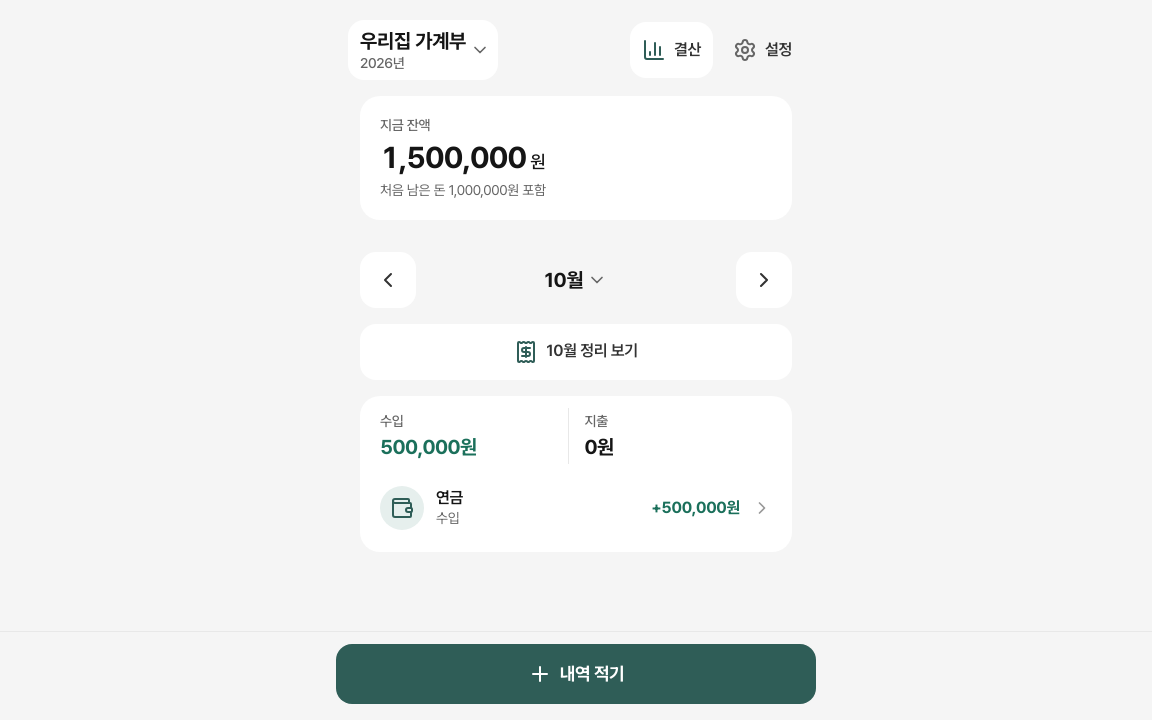
Test: SPEC-005 장부 바꾸기·새 장부·지우기 (화면) › AC-3 이름 버튼 → 창에서 다른 장부를 누르면 그 장부의 이번 달 장부 화면이 열리고 마지막에 본 장부로 저장된다
The width and height of the screenshot is (1152, 720).
Click the button named "이전 달": (388, 280) [360, 252, 416, 308]
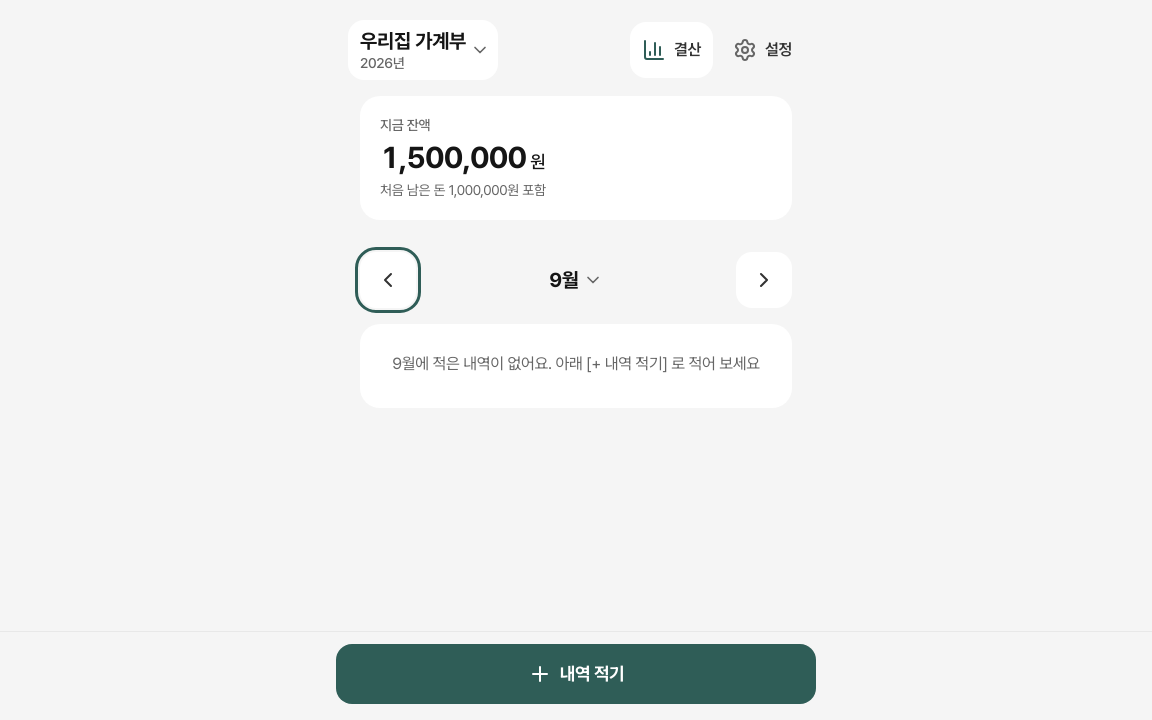
Click the button with test id "book-button": (423, 50) [348, 20, 498, 80]
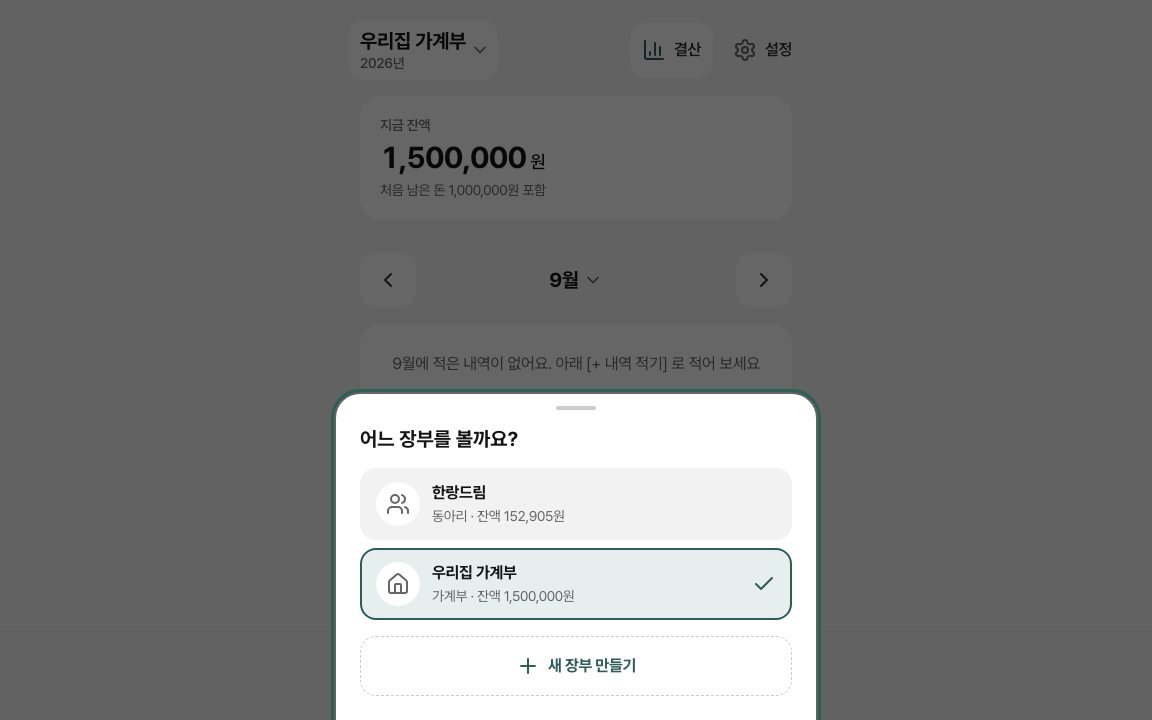
Result: the button "한랑드림 동아리 · 잔액 152,905원" is shown
Click the button "한랑드림 동아리 · 잔액 152,905원": (398, 504) [360, 468, 792, 540]
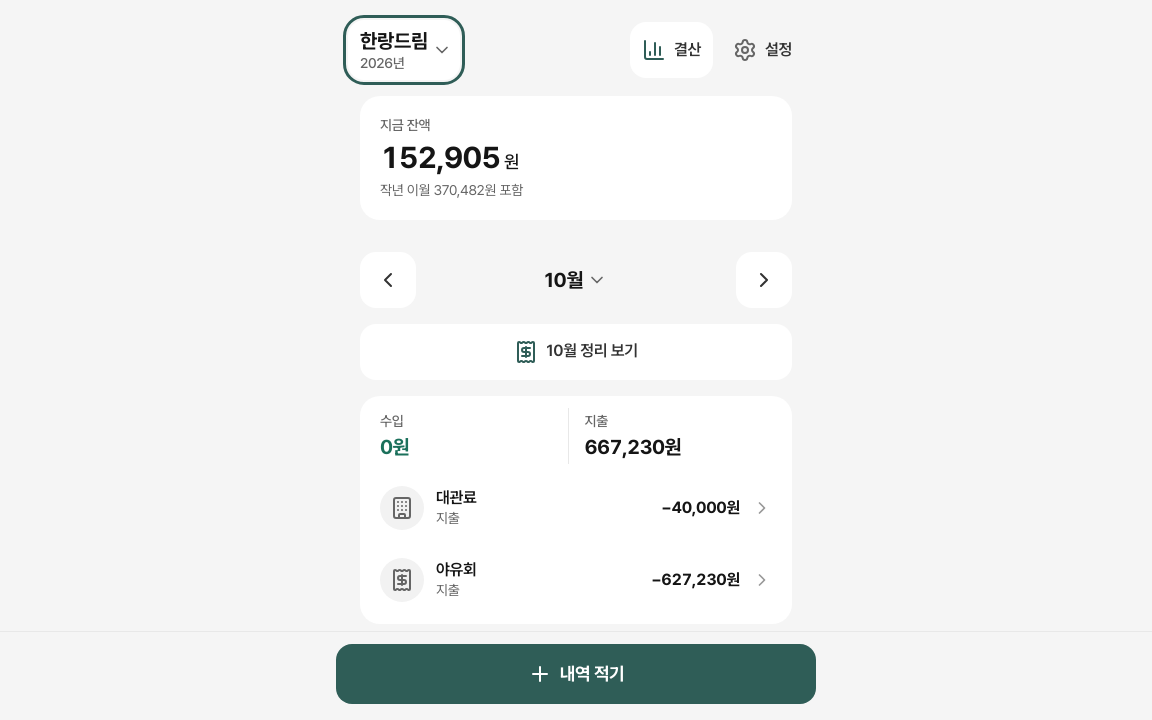
Result: the dialog is gone
Result: the heading shows "한랑드림" at [348, 20, 460, 80]
Result: the element with test id "balance-card-amount" reads "152,905원" at [380, 139, 519, 175]
